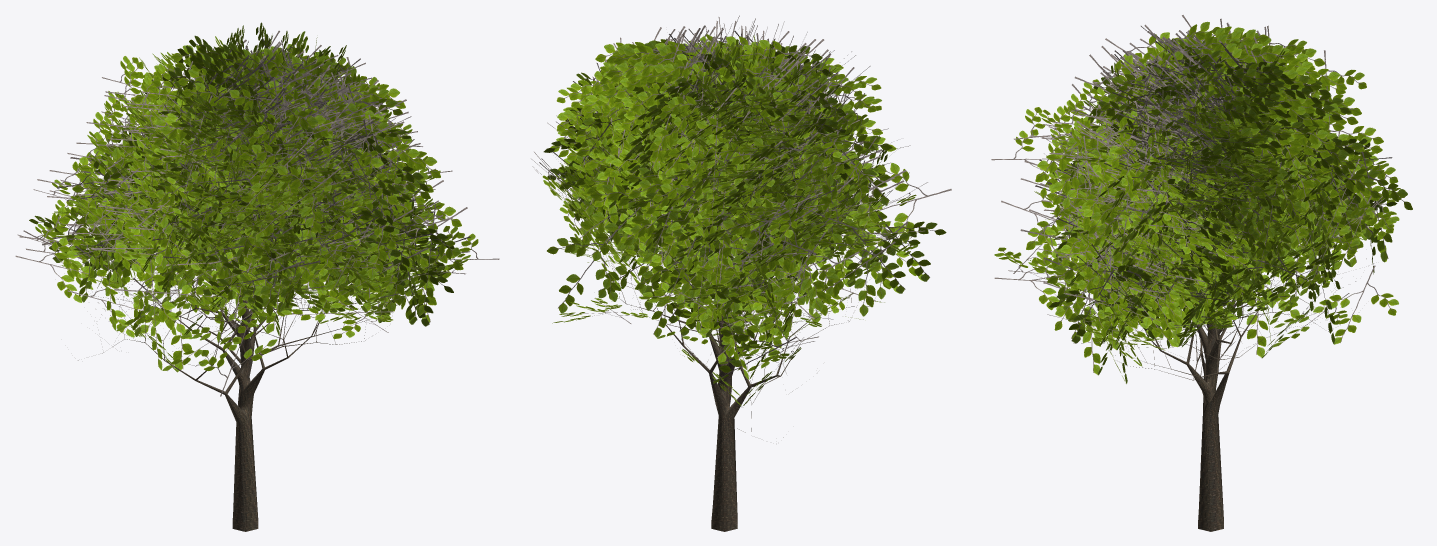
File: centertree2.glb
3 views of the same model, side by side, from view 1: azimuth 30°, elevation 25°; view 2: azimuth 150°, elevation 25°; view 3: azimuth 270°, elevation 25° (orthographic). The views are drawn at different scales.
Parts seen in each view (by area): view 1: Mesh_1, Mesh_0; view 2: Mesh_1, Mesh_0; view 3: Mesh_1, Mesh_0.
Boxes of the visible parts, x1=… form: Mesh_1: x1=15, y1=22, x2=499, y2=396; Mesh_0: x1=78, y1=173, x2=406, y2=531; Mesh_1: x1=531, y1=15, x2=951, y2=405; Mesh_0: x1=595, y1=144, x2=877, y2=531; Mesh_1: x1=991, y1=15, x2=1412, y2=383; Mesh_0: x1=1115, y1=236, x2=1366, y2=531.
Bounding box in the file's own units: 27.14 × 32.98 × 26.74.
Materials: 2 (2 with a texture image).
